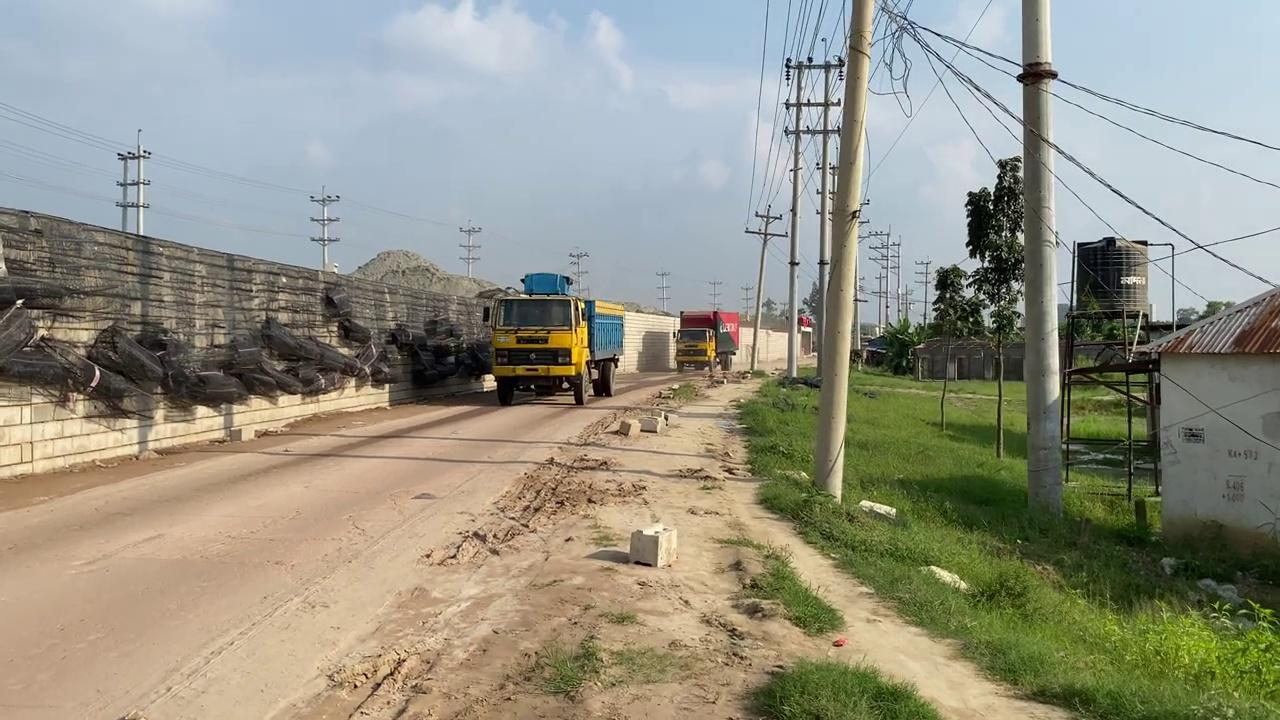Garbage: (2, 295, 490, 406)
Muddy road: (1, 361, 1073, 718)
Obstacle: (628, 522, 677, 567)
Pole: (811, 0, 874, 504), (1019, 0, 1063, 524)
Tree: (482, 271, 625, 406), (674, 309, 739, 372), (673, 326, 714, 372)
Upstairs: (0, 205, 506, 477)
